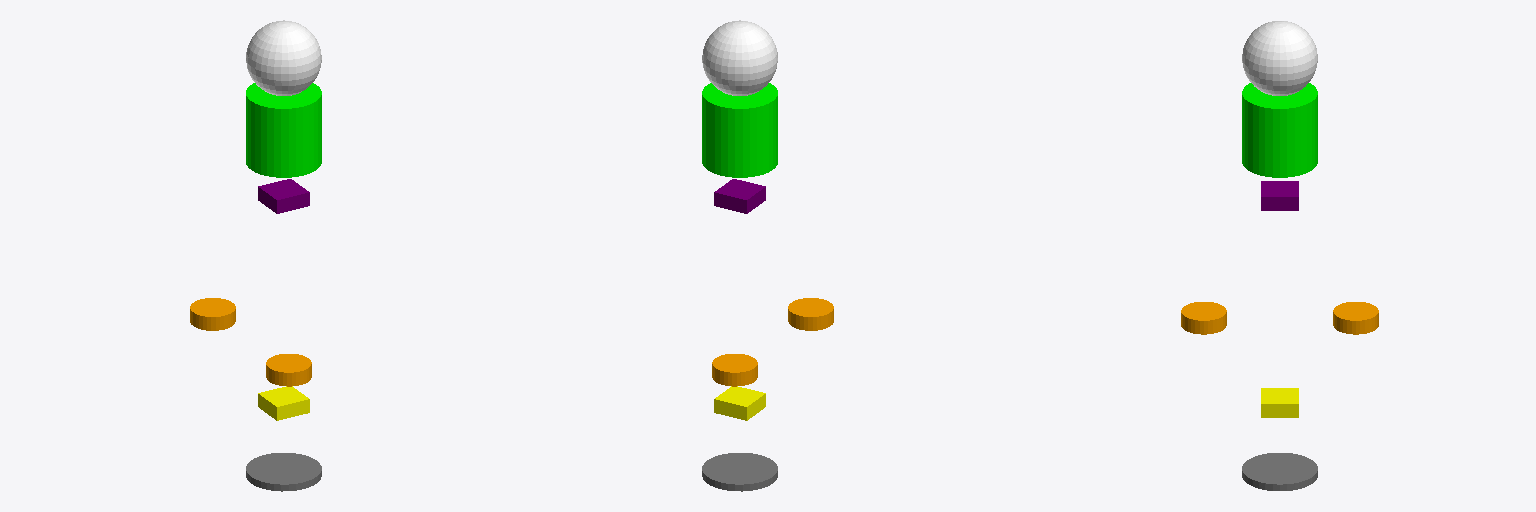
The robot description file, URDF, robot "cub3_robot":
<?xml version="1.0"?>
<robot name="cub3_robot" xmlns:xacro="http://www.ros.org/wiki/xacro">

  <!-- ベースリンク -->
  <link name="base_link">
     <visual>
      <geometry>
        <mesh filename="package://cub_description/meshes/cub3.dae" scale="1 1 1"/>
      </geometry>
      <origin xyz="0.0 0.0 0.0" rpy="0.0 0.0 1.57"/>
    </visual>
    <collision>
      <geometry>
        <mesh filename="package://cub_description/meshes/cub3.dae" scale="1 1 1"/>
      </geometry>
      <origin xyz="0.0 0.0 0.0" rpy="0.0 0.0 0.0"/>
    </collision>
  </link>

  <!-- base_footprint -->
  <link name="base_footprint">
    <visual>
      <geometry>
        <cylinder radius="0.05" length="0.01"/>
      </geometry>
      <material name="gray">
        <color rgba="0.5 0.5 0.5 1"/>
      </material>
    </visual>
  </link>

  <!-- GPSリンク -->
  <link name="gps_link">
    <visual>
      <geometry>
        <sphere radius="0.05"/>
      </geometry>
      <material name="white">
        <color rgba="1 1 1 1"/>
      </material>
    </visual>
  </link>

  <!-- Velodyne LiDAR -->
  <link name="velodyne">
    <visual>
      <geometry>
        <cylinder radius="0.05" length="0.1"/>
      </geometry>
      <material name="green">
        <color rgba="0 1 0 1"/>
      </material>
    </visual>
  </link>

  <!-- IMU -->
  <link name="imu_link">
    <visual>
      <geometry>
        <box size="0.05 0.05 0.02"/>
      </geometry>
      <material name="yellow">
        <color rgba="1 1 0 1"/>
      </material>
    </visual>
  </link>

  <!-- SLCL (左センサー) -->
  <link name="SLCL_link">
    <visual>
      <geometry>
        <cylinder radius="0.03" length="0.02"/>
      </geometry>
      <material name="orange">
        <color rgba="1 0.65 0 1"/>
      </material>
    </visual>
  </link>

  <!-- SLCR (右センサー) -->
  <link name="SLCR_link">
    <visual>
      <geometry>
        <cylinder radius="0.03" length="0.02"/>
      </geometry>
      <material name="orange">
        <color rgba="1 0.65 0 1"/>
      </material>
    </visual>
  </link>

  <!-- カメラリンク -->
  <link name="camera_link">
    <visual>
      <geometry>
        <box size="0.05 0.05 0.02"/>
      </geometry>
      <material name="purple">
        <color rgba="0.5 0 0.5 1"/>
      </material>
    </visual>
  </link>

  <!-- 各リンクの接続 -->
  <joint name="base_to_footprint" type="fixed">
    <parent link="base_link"/>
    <child link="base_footprint"/>
    <origin xyz="0 0 0" rpy="0 0 0"/>
  </joint>

  <joint name="base_to_gps" type="fixed">
    <parent link="base_link"/>
    <child link="gps_link"/>
    <origin xyz="0.0 0 0.6" rpy="0 0 0"/>
  </joint>

  <joint name="base_to_velodyne" type="fixed">
    <parent link="base_link"/>
    <child link="velodyne"/>
    <origin xyz="0.0 0 0.5" rpy="0 0 0"/>
  </joint>

  <joint name="base_to_imu" type="fixed">
    <parent link="base_link"/>
    <child link="imu_link"/>
    <origin xyz="0 0 0.1" rpy="0 0 0"/>
  </joint>

  <joint name="base_to_SLCL" type="fixed">
    <parent link="base_link"/>
    <child link="SLCL_link"/>
    <origin xyz="-0.05 0.1 0.2" rpy="0 0 0"/>
  </joint>

  <joint name="base_to_SLCR" type="fixed">
    <parent link="base_link"/>
    <child link="SLCR_link"/>
    <origin xyz="-0.05 -0.1 0.2" rpy="0 0 0"/>
  </joint>

  <joint name="base_to_camera" type="fixed">
    <parent link="base_link"/>
    <child link="camera_link"/>
    <origin xyz="0.0 0 0.4" rpy="0 0 0"/>
  </joint>

</robot>

--- Facts derived from the render (not from the file) ---
Views: 3 orthographic renders of the robot side by side, from view 1: azimuth 30°, elevation 25°; view 2: azimuth 150°, elevation 25°; view 3: azimuth 270°, elevation 25°.
Robot: cub3_robot — 8 links, 7 joints (7 fixed); root link base_link; default pose: all joints at 0.
Visible links, largest first — view 1: velodyne, gps_link, base_footprint, camera_link, SLCL_link, imu_link, SLCR_link; view 2: velodyne, gps_link, base_footprint, camera_link, SLCR_link, imu_link, SLCL_link; view 3: velodyne, gps_link, base_footprint, SLCL_link, SLCR_link, imu_link, camera_link.
Link boxes in pixels (bbox=[...]): velodyne: bbox=[246, 83, 321, 177]; gps_link: bbox=[246, 20, 321, 95]; base_footprint: bbox=[246, 453, 321, 491]; camera_link: bbox=[258, 179, 309, 213]; SLCL_link: bbox=[190, 298, 235, 330]; imu_link: bbox=[258, 386, 309, 420]; SLCR_link: bbox=[266, 354, 311, 386]; velodyne: bbox=[702, 83, 777, 177]; gps_link: bbox=[702, 20, 777, 95]; base_footprint: bbox=[702, 453, 777, 491]; camera_link: bbox=[714, 179, 765, 213]; SLCR_link: bbox=[788, 298, 833, 330]; imu_link: bbox=[714, 386, 765, 420]; SLCL_link: bbox=[712, 354, 757, 386]; velodyne: bbox=[1242, 83, 1317, 177]; gps_link: bbox=[1242, 21, 1317, 95]; base_footprint: bbox=[1242, 453, 1317, 490]; SLCL_link: bbox=[1333, 302, 1378, 334]; SLCR_link: bbox=[1181, 302, 1226, 334]; imu_link: bbox=[1261, 388, 1298, 417]; camera_link: bbox=[1261, 181, 1298, 210].
Size in the robot's own frame: 0.13 by 0.26 by 0.655 metres.
0 mesh visuals loaded from 1 distinct referenced files (none loaded); not drawn: 1 (reference not matched to a file when rendering).
